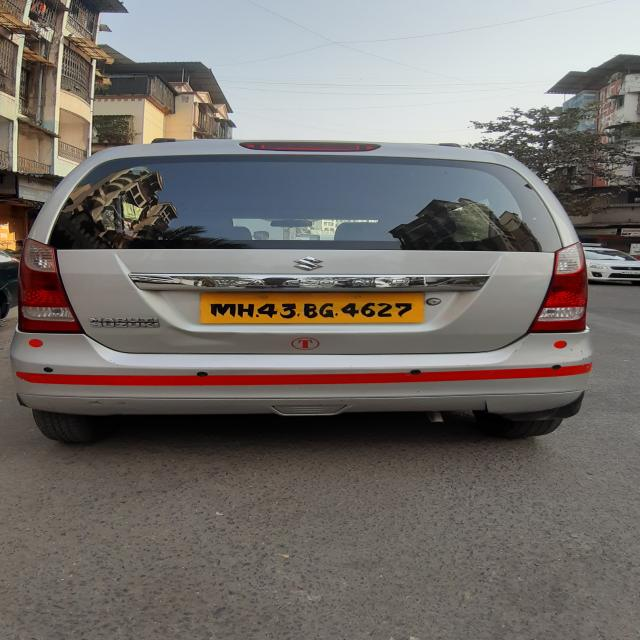Number-Plate: (200, 292, 422, 323)
